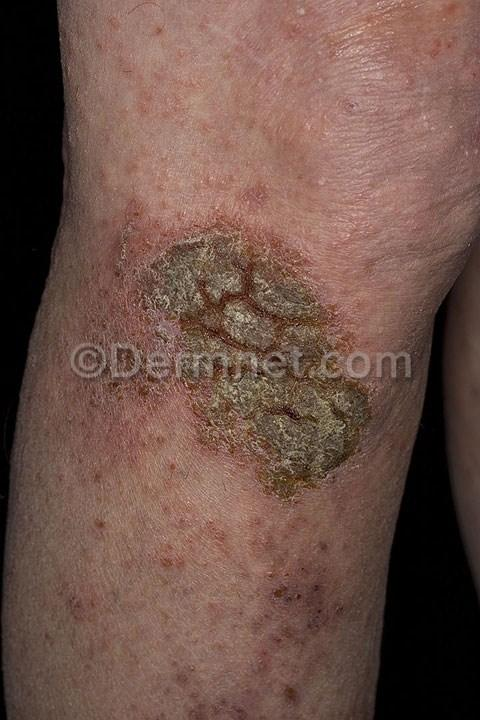Eczema: (62, 121, 394, 528), (181, 517, 374, 720)
